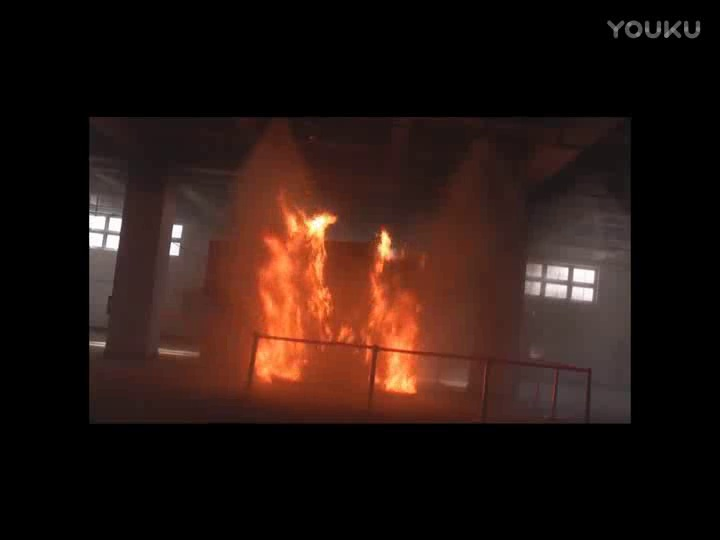fire: (252, 196, 334, 382), (370, 229, 427, 391)
